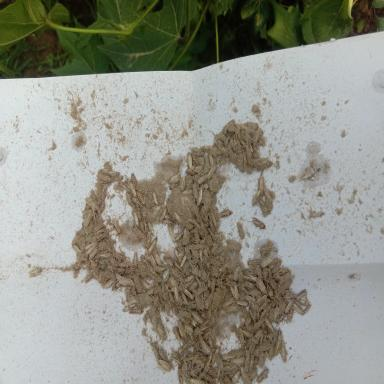pbw: (249, 314, 266, 332), (246, 216, 266, 230), (240, 361, 252, 384), (198, 245, 210, 268), (214, 360, 227, 381), (253, 126, 265, 147), (99, 276, 115, 290), (221, 296, 237, 310), (198, 339, 212, 355), (203, 289, 214, 309), (158, 354, 170, 372), (166, 274, 178, 292), (83, 209, 94, 228), (241, 279, 257, 292), (274, 334, 283, 357), (256, 277, 268, 294), (186, 374, 206, 384), (210, 346, 221, 364), (290, 304, 306, 316), (196, 319, 210, 332), (256, 368, 269, 382), (251, 330, 264, 344), (262, 315, 274, 330), (195, 186, 204, 206), (250, 190, 261, 206), (185, 240, 201, 251), (99, 184, 108, 203), (132, 224, 144, 238), (259, 296, 271, 310), (94, 228, 106, 242), (191, 309, 203, 323), (176, 363, 184, 384), (200, 360, 212, 374), (28, 266, 42, 278), (128, 305, 146, 314), (310, 210, 326, 220), (216, 208, 232, 218), (261, 255, 274, 267), (220, 350, 233, 362), (106, 169, 123, 178), (192, 226, 202, 241), (148, 237, 158, 252), (206, 217, 216, 232), (122, 303, 137, 313), (230, 367, 240, 382), (162, 254, 174, 266), (195, 284, 208, 295), (283, 302, 294, 315), (237, 324, 244, 344), (184, 287, 194, 301), (237, 220, 244, 240), (216, 278, 226, 292), (112, 218, 120, 235), (95, 253, 112, 261), (233, 264, 241, 281), (168, 224, 176, 241), (209, 212, 218, 227), (278, 346, 289, 358), (153, 250, 161, 266), (287, 307, 295, 323), (128, 182, 136, 198), (177, 320, 185, 336), (275, 267, 291, 275), (155, 208, 163, 224), (133, 249, 140, 267), (208, 166, 217, 180), (294, 290, 308, 299), (245, 258, 260, 266), (152, 264, 164, 274), (175, 229, 185, 241), (138, 189, 146, 204), (230, 285, 238, 300), (159, 208, 167, 223), (258, 176, 264, 196), (186, 152, 193, 169), (208, 152, 215, 168), (86, 245, 97, 255), (169, 174, 180, 184), (89, 248, 98, 260), (141, 278, 150, 290), (304, 303, 314, 313), (198, 173, 208, 183), (130, 172, 137, 186), (181, 290, 188, 304), (235, 299, 249, 306), (244, 294, 256, 302), (180, 254, 187, 267), (185, 274, 195, 283), (193, 164, 203, 173), (150, 254, 156, 268), (296, 298, 308, 305), (140, 254, 148, 264), (132, 211, 138, 224), (154, 347, 160, 360), (147, 221, 153, 234), (116, 180, 127, 187), (174, 285, 179, 300), (126, 192, 132, 204), (72, 244, 80, 253), (85, 243, 95, 250), (173, 326, 180, 336), (143, 220, 148, 234), (157, 327, 163, 337), (152, 190, 156, 205), (183, 189, 192, 195), (146, 288, 153, 295)
